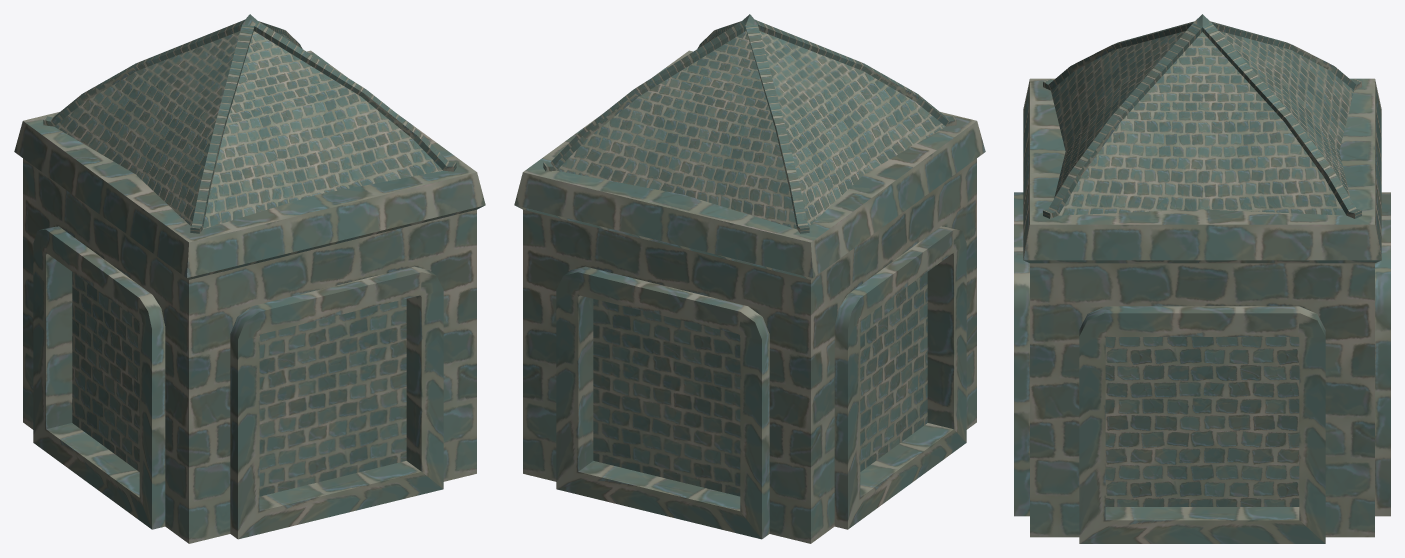
Rendered from Wallpiece_01.fbx.
3 renders of one model, left to right at view 1: azimuth 30°, elevation 25°; view 2: azimuth 150°, elevation 25°; view 3: azimuth 270°, elevation 25°, orthographic. The views are drawn at different scales.
Parts seen in each view (by area): view 1: Cube.001; view 2: Cube.001; view 3: Cube.001.
Boxes of the visible parts, x1,y1,x2,y2 form: Cube.001: [14, 14, 485, 543]; Cube.001: [514, 14, 985, 543]; Cube.001: [1014, 14, 1390, 543].
Bounding box in the file's own units: 4.37 × 5.76 × 4.37.
